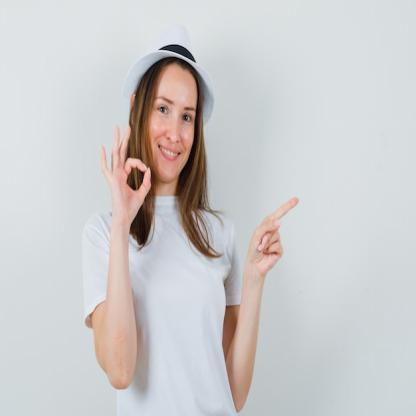ok: (98, 122, 154, 227)
